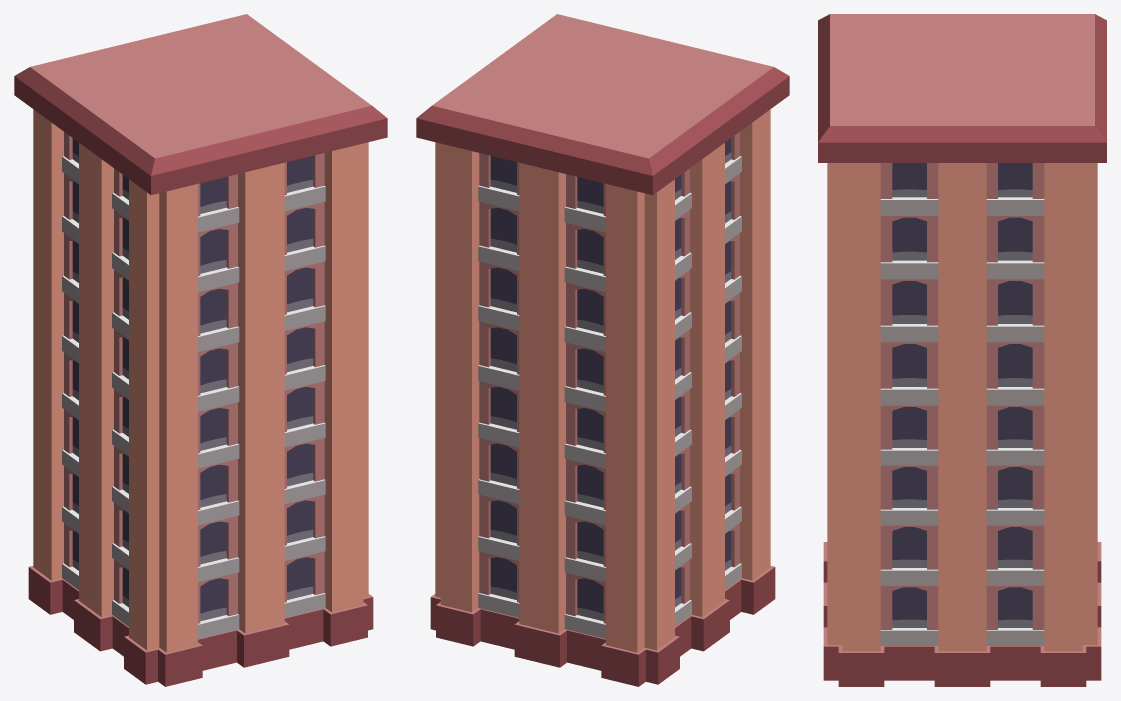
File: BUILDING4_RED.fbx
The picture shows the model from 3 angles, left to right: view 1: azimuth 30°, elevation 25°; view 2: azimuth 150°, elevation 25°; view 3: azimuth 270°, elevation 25°; orthographic projection. The views are drawn at different scales.
Parts seen in each view (by area): view 1: pCube1, pCube2; view 2: pCube1, pCube2; view 3: pCube1, pCube2.
Part boxes in pixels (<box>): pCube1: <box>28,109,373,686</box>; pCube2: <box>14,14,387,195</box>; pCube1: <box>430,109,775,686</box>; pCube2: <box>416,14,789,195</box>; pCube1: <box>823,163,1101,686</box>; pCube2: <box>818,14,1106,162</box>.
Size of the model in its own units: 7.05 by 15.03 by 7.05.
